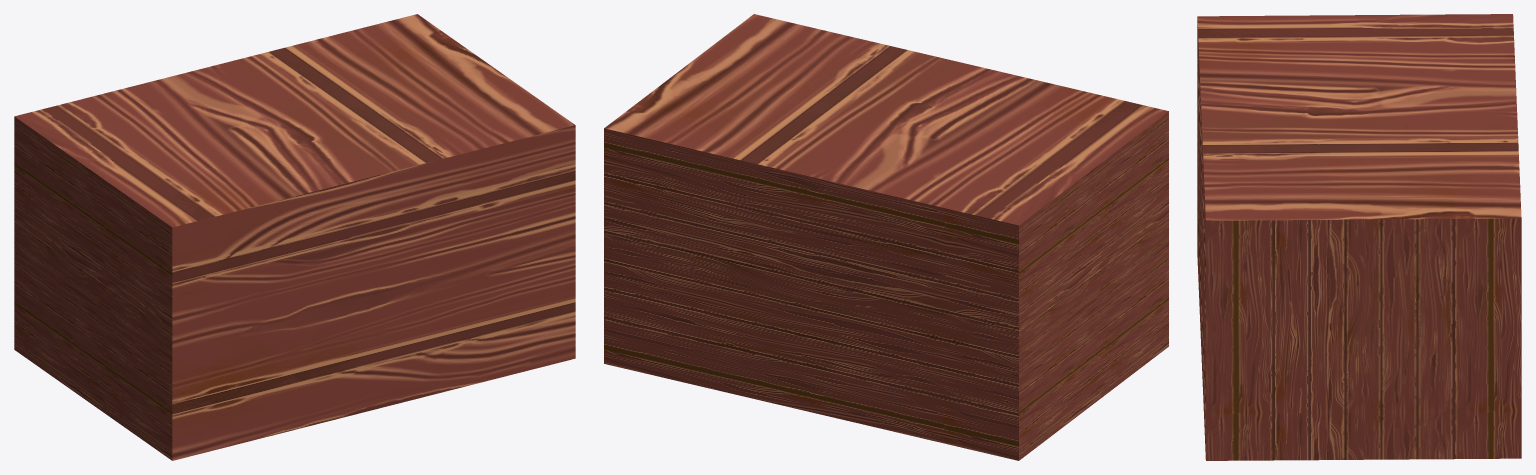
3 views of the same model, side by side, from view 1: azimuth 30°, elevation 25°; view 2: azimuth 150°, elevation 25°; view 3: azimuth 270°, elevation 25° (orthographic). The views are drawn at different scales.
Visible parts, largest first — view 1: Cube.1468; view 2: Cube.1468; view 3: Cube.1468.
Part boxes in pixels (x1=…): Cube.1468: x1=14, y1=14, x2=575, y2=460; Cube.1468: x1=604, y1=14, x2=1168, y2=460; Cube.1468: x1=1197, y1=14, x2=1521, y2=460.
Bounding box in the file's own units: 1153 × 625 × 764.
1 material, 1 textured.
